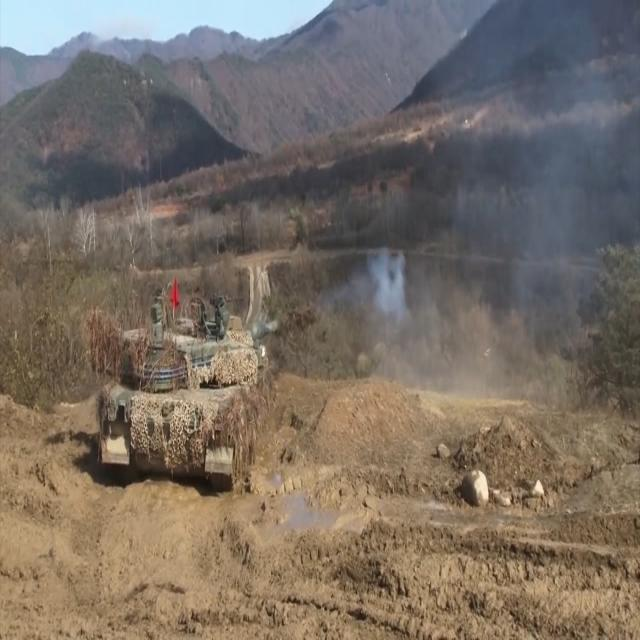korea tank: (83, 289, 321, 497)
